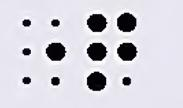dot_5: (22, 19, 66, 86)
kislap: (86, 12, 138, 91)
